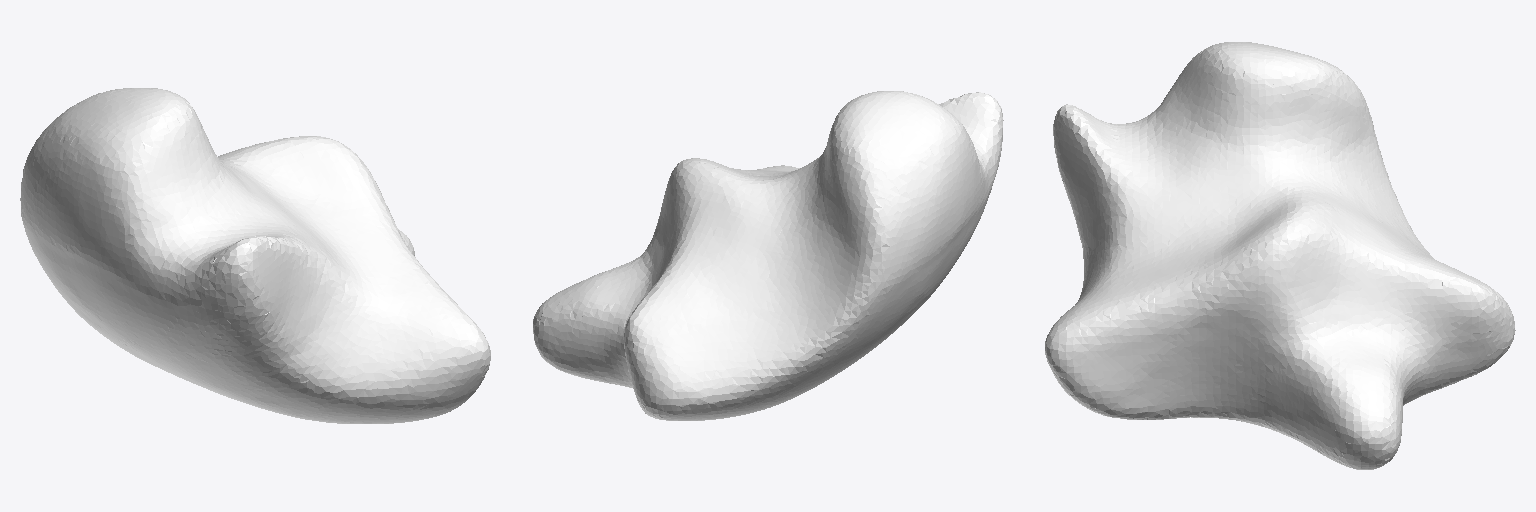
The robot description file, URDF, robot "feelie7":
<robot name="feelie7">
	<link name="_name">
		<visual>
			<origin rpy="0 0 0" xyz="0.006464892943750426 0.00311946891026114 0.006485934206869568" />
			<geometry>
				<mesh filename="feelie7.obj" scale="0.001 0.001 0.001" />
			</geometry>
			<material name="texture">
				<color rgba="1.0 1.0 1.0 1.0" />
			</material>
		</visual>
		<collision>
			<geometry>
				<mesh filename="feelie7_vhacd.obj" scale="0.001 0.001 0.001" />
			</geometry>
		<origin rpy="0 0 0" xyz="0.006464892943750426 0.00311946891026114 0.006485934206869568" /></collision>
		<inertial>
			<mass value="1.0" />
			<inertia ixx="1.0" ixy="0.0" ixz="0.0" iyy="1.0" iyz="0.0" izz="1.0" />
		</inertial>
	</link>
</robot>

--- Render facts (derived) ---
3 views of the same robot in one strip: view 1: azimuth 30°, elevation 25°; view 2: azimuth 150°, elevation 25°; view 3: azimuth 270°, elevation 25° (orthographic).
Robot: feelie7 — 1 links, 0 joints (none); root link _name; default pose: all joints at 0.
Links seen in each view (by area): view 1: _name; view 2: _name; view 3: _name.
Link boxes in pixels (x1,y1,x2,y2): _name: [20, 88, 490, 423]; _name: [533, 91, 1003, 420]; _name: [1045, 42, 1515, 469].
Size in the robot's own frame: 0.0825 by 0.0917 by 0.0646 metres.
Meshes: 1 distinct files referenced, 1 mesh visuals loaded (1 OBJ).
